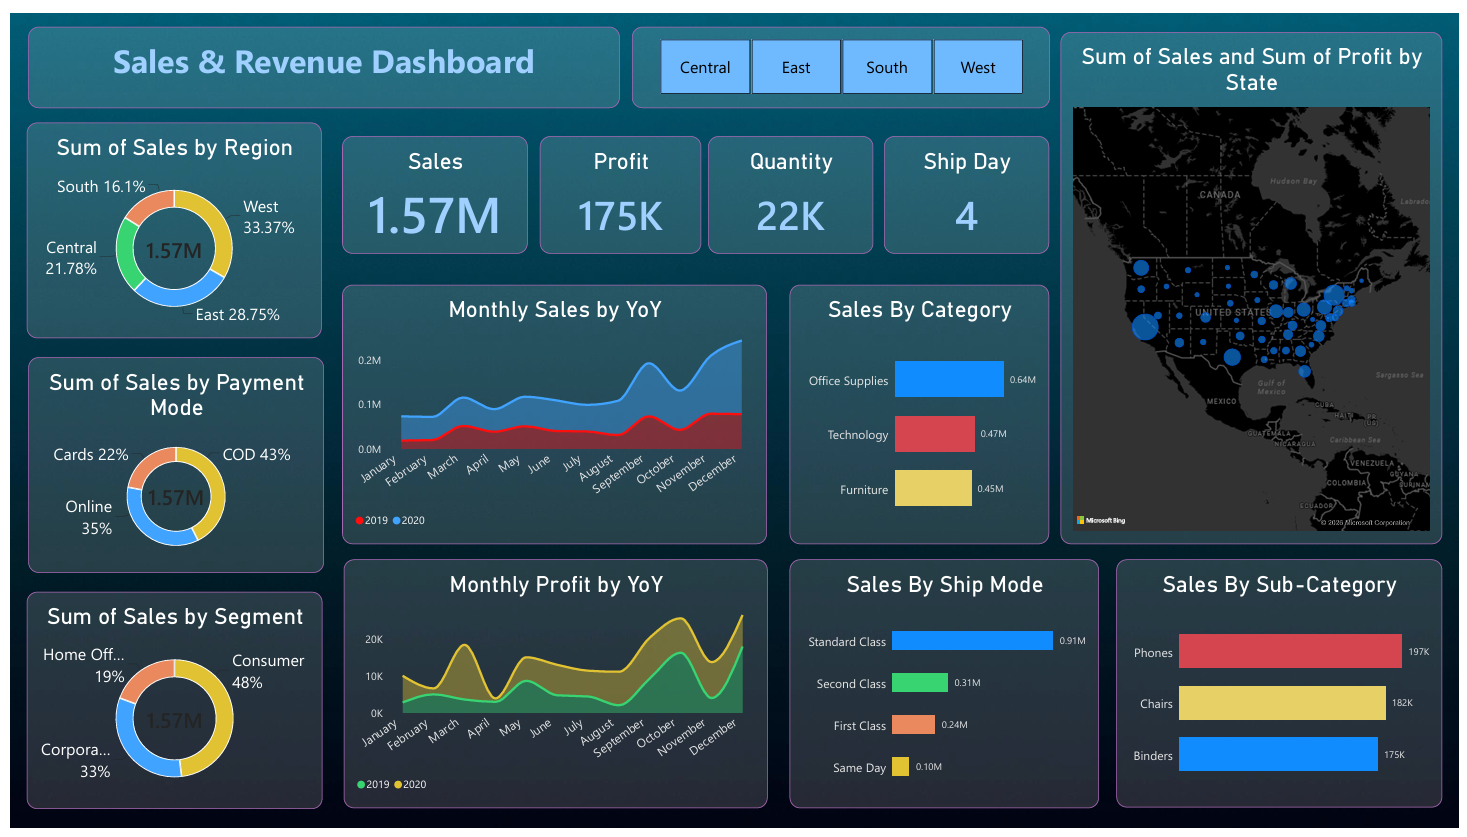

This screenshot's page, from the dashboard's own definition file:
{"tool":"powerbi","page":{"name":"Dashboard","canvas":[1920,1080],"ordinal":0},"visuals":[{"type":"clusteredBarChart","title":"Sales By Category","fields":{"Category":["SuperStore_Sales_Dataset.Category"],"Y":["Sum(SuperStore_Sales_Dataset.Sales)"]},"box":[1033.3,360.1,343.8,343.8],"z":0},{"type":"clusteredBarChart","title":"Sales By Sub-Category","fields":{"Category":["SuperStore_Sales_Dataset.Sub-Category"],"Y":["Sum(SuperStore_Sales_Dataset.Sales)"]},"box":[1465.8,723.9,432.5,329.4],"z":1000},{"type":"clusteredBarChart","title":"Sales By Ship Mode","fields":{"Y":["Sum(SuperStore_Sales_Dataset.Sales)"],"Category":["SuperStore_Sales_Dataset.Ship Mode"]},"box":[1033.3,723.9,410,330],"z":2000},{"type":"stackedAreaChart","title":"Monthly Sales by YoY","fields":{"Y":["Sum(SuperStore_Sales_Dataset.Sales)"],"Category":["SuperStore_Sales_Dataset.Order Date.Variation.Date Hierarchy.Month","SuperStore_Sales_Dataset.Order Date.Variation.Date Hierarchy.Day"],"Series":["SuperStore_Sales_Dataset.Order Date.Variation.Date Hierarchy.Year"]},"box":[439.7,360.1,562.8,343.8],"z":3000},{"type":"stackedAreaChart","title":"Monthly Profit by YoY","fields":{"Category":["SuperStore_Sales_Dataset.Order Date.Variation.Date Hierarchy.Month","SuperStore_Sales_Dataset.Order Date.Variation.Date Hierarchy.Day"],"Series":["SuperStore_Sales_Dataset.Order Date.Variation.Date Hierarchy.Year"],"Y":["Sum(SuperStore_Sales_Dataset.Profit)"]},"box":[441.6,723.9,562,330],"z":4000},{"type":"map","fields":{"Category":["SuperStore_Sales_Dataset.State"],"Size":["Sum(SuperStore_Sales_Dataset.Sales)"]},"box":[1391.6,25.3,506.7,678.6],"z":5000},{"type":"donutChart","fields":{"Category":["SuperStore_Sales_Dataset.Segment"],"Y":["Sum(SuperStore_Sales_Dataset.Sales)"]},"box":[21.7,767.3,392,288],"z":6000},{"type":"donutChart","fields":{"Category":["SuperStore_Sales_Dataset.Payment Mode"],"Y":["Sum(SuperStore_Sales_Dataset.Sales)"]},"box":[23.5,456,392,286],"z":7000},{"type":"slicer","fields":{"Values":["SuperStore_Sales_Dataset.Region"]},"box":[824,18,554,108],"z":8000},{"type":"textbox","box":[24,18,784,108],"z":9000},{"type":"cardVisual","title":"Sales","fields":{"Data":["Sum(SuperStore_Sales_Dataset.Sales)"]},"box":[439.7,162.9,246.1,155.6],"z":10000},{"type":"cardVisual","title":"Profit","fields":{"Data":["Sum(SuperStore_Sales_Dataset.Profit)"]},"box":[702.1,162.9,213.5,155.6],"z":11000},{"type":"cardVisual","title":"Quantity","fields":{"Data":["Sum(SuperStore_Sales_Dataset.Quantity)"]},"box":[924.7,162.9,219,155.6],"z":12000},{"type":"cardVisual","title":"Ship Day","fields":{"Data":["SuperStore_Sales_Dataset.Avg Shipping Days"]},"box":[1158.2,162.9,219,155.6],"z":13000},{"type":"donutChart","fields":{"Y":["Sum(SuperStore_Sales_Dataset.Sales)"],"Category":["SuperStore_Sales_Dataset.Region"]},"box":[21.7,144.8,391.7,286.7],"z":14000}]}

Visuals, with their boxes in screenshot pixels (x1, y1, x2, y2), scaled from the page's 1920x1080 canvas onto the 1467x837 screenshot:
"Sales By Category" clusteredBarChart: pyautogui.locateOnScreen(790, 279, 1052, 546)
"Sales By Sub-Category" clusteredBarChart: pyautogui.locateOnScreen(1120, 561, 1450, 816)
"Sales By Ship Mode" clusteredBarChart: pyautogui.locateOnScreen(790, 561, 1103, 817)
"Monthly Sales by YoY" stackedAreaChart: pyautogui.locateOnScreen(336, 279, 766, 546)
"Monthly Profit by YoY" stackedAreaChart: pyautogui.locateOnScreen(337, 561, 767, 817)
map - SuperStore_Sales_Dataset.State x Sum(SuperStore_Sales_Dataset.Sales): pyautogui.locateOnScreen(1063, 20, 1450, 546)
donutChart - SuperStore_Sales_Dataset.Segment x Sum(SuperStore_Sales_Dataset.Sales): pyautogui.locateOnScreen(17, 595, 316, 818)
donutChart - SuperStore_Sales_Dataset.Payment Mode x Sum(SuperStore_Sales_Dataset.Sales): pyautogui.locateOnScreen(18, 353, 317, 575)
slicer - SuperStore_Sales_Dataset.Region: pyautogui.locateOnScreen(630, 14, 1053, 98)
textbox: pyautogui.locateOnScreen(18, 14, 617, 98)
"Sales" cardVisual: pyautogui.locateOnScreen(336, 126, 524, 247)
"Profit" cardVisual: pyautogui.locateOnScreen(536, 126, 700, 247)
"Quantity" cardVisual: pyautogui.locateOnScreen(707, 126, 874, 247)
"Ship Day" cardVisual: pyautogui.locateOnScreen(885, 126, 1052, 247)
donutChart - Sum(SuperStore_Sales_Dataset.Sales) x SuperStore_Sales_Dataset.Region: pyautogui.locateOnScreen(17, 112, 316, 334)
